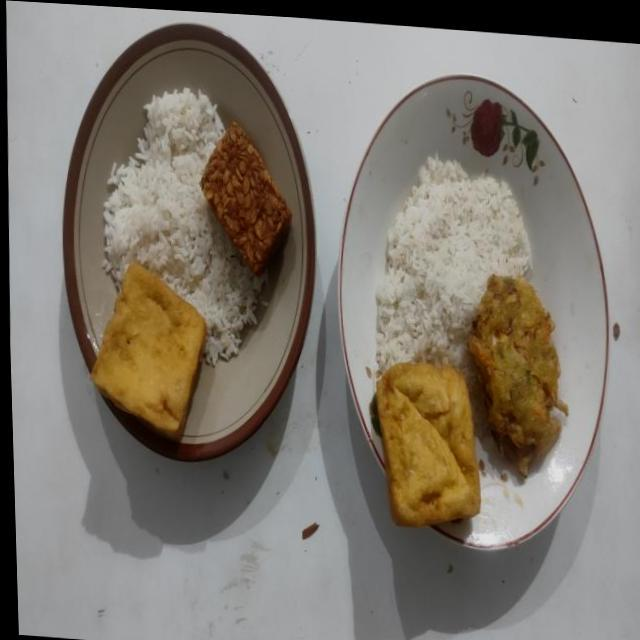nasi_putih: (101, 87, 268, 366), (374, 154, 530, 394)
tahu_goreng: (91, 262, 206, 436), (373, 362, 480, 526)
tempe_goreng: (200, 122, 291, 276)
